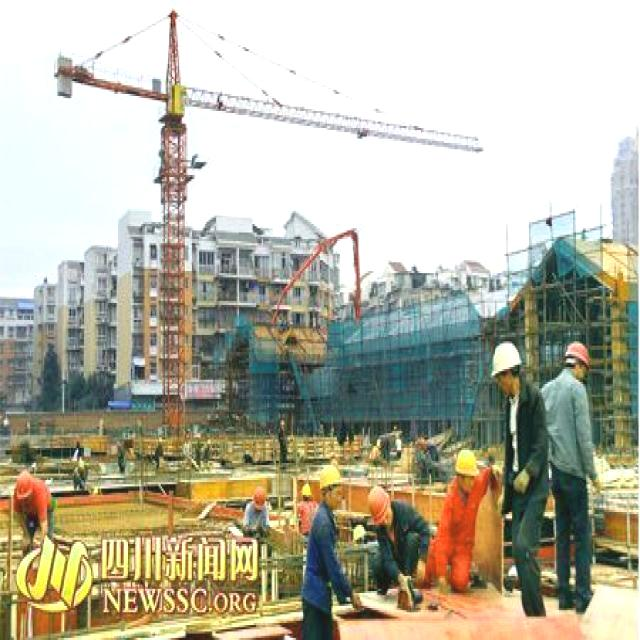face_nomask: (494, 372, 514, 399), (328, 484, 344, 508)
hand_glove: (509, 468, 532, 494), (411, 556, 430, 579), (394, 570, 411, 593)
hand_noglove: (345, 587, 368, 615)
head_helmet: (484, 339, 526, 380), (364, 485, 391, 525), (451, 447, 480, 477), (560, 339, 592, 365), (317, 463, 343, 492), (13, 467, 35, 500), (250, 486, 268, 509)
person: (483, 339, 558, 624), (536, 332, 608, 616), (423, 443, 501, 589), (299, 464, 360, 640), (360, 484, 441, 599), (8, 467, 60, 567), (240, 483, 272, 545)
